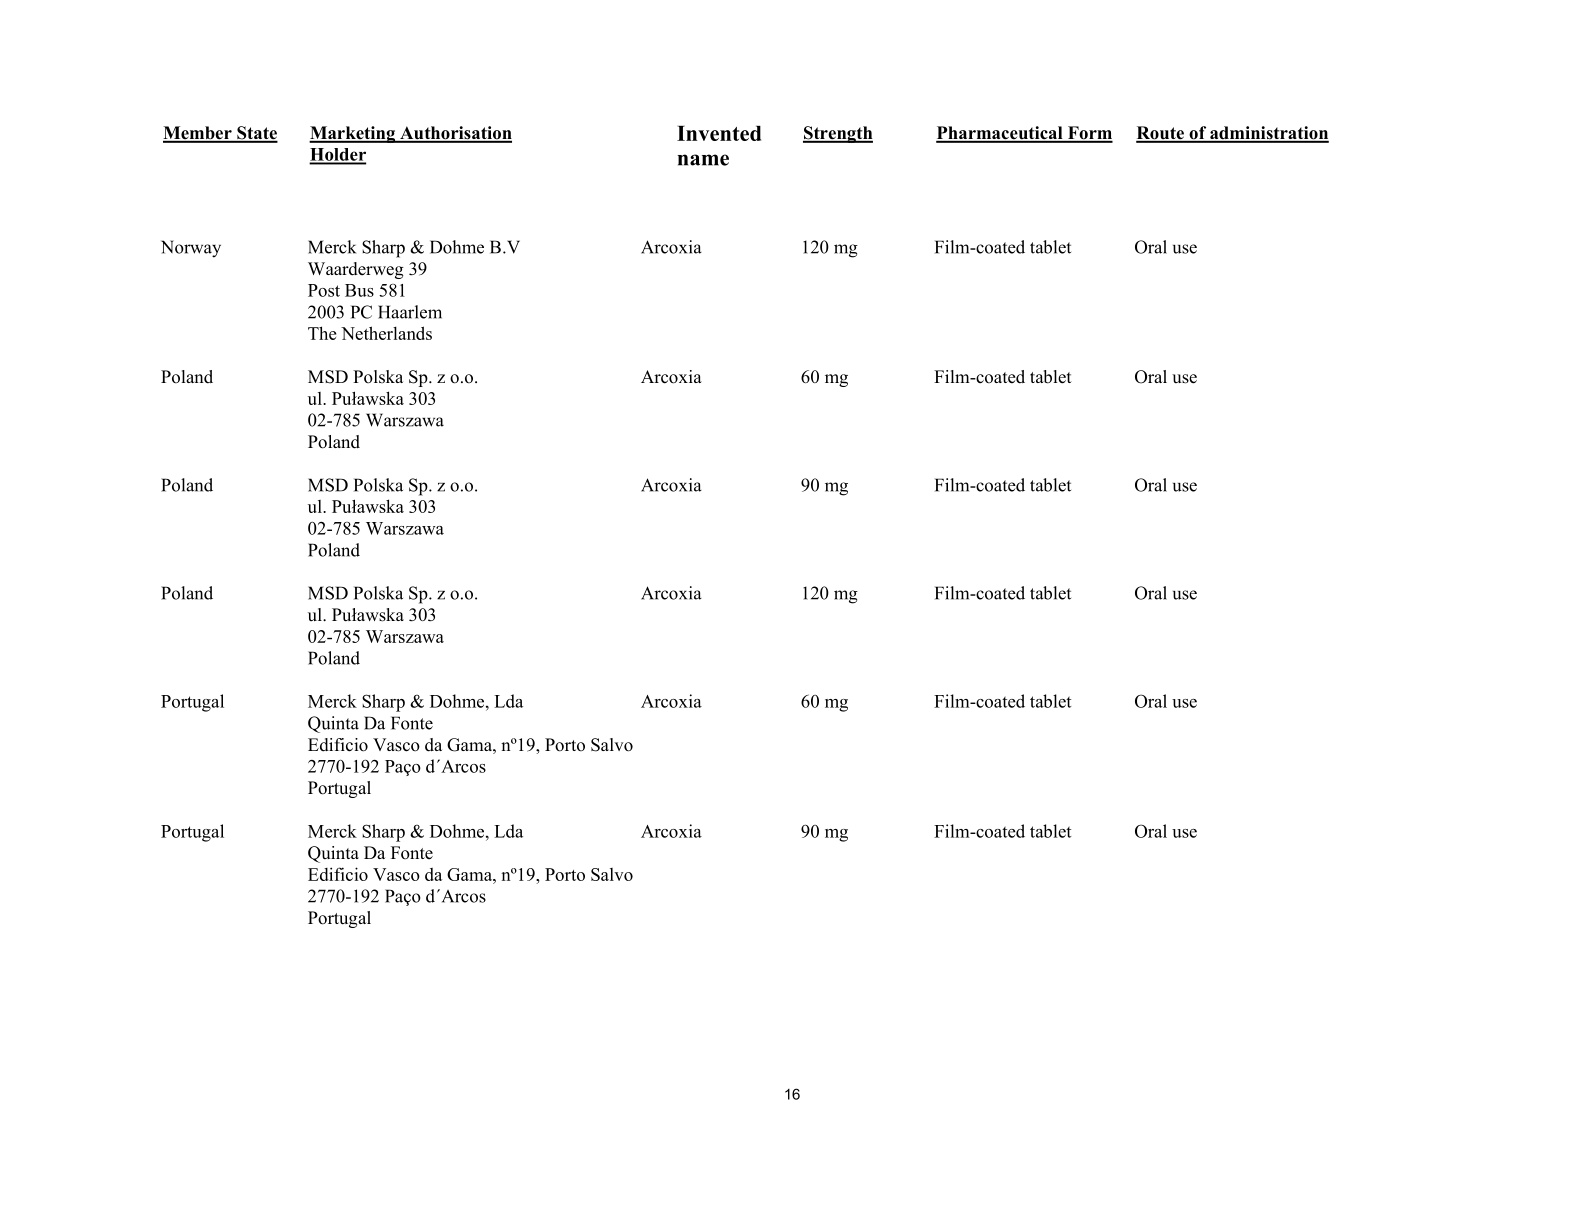nolines: (159, 123, 1332, 931)
